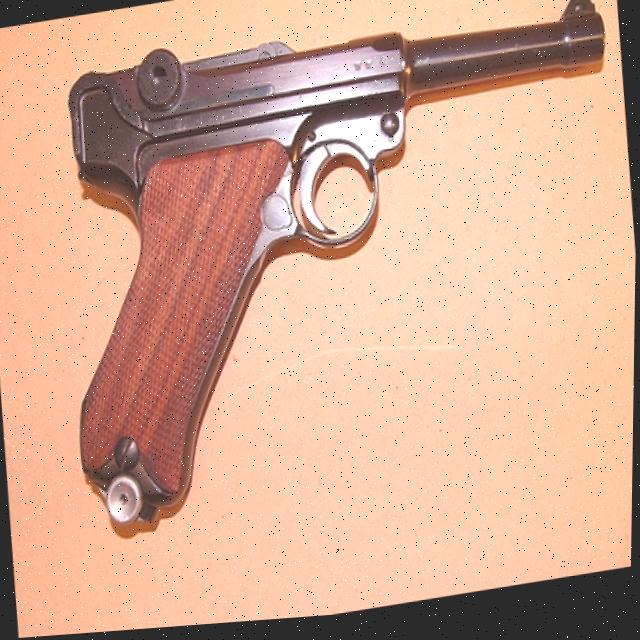pistol: (39, 0, 640, 555)
